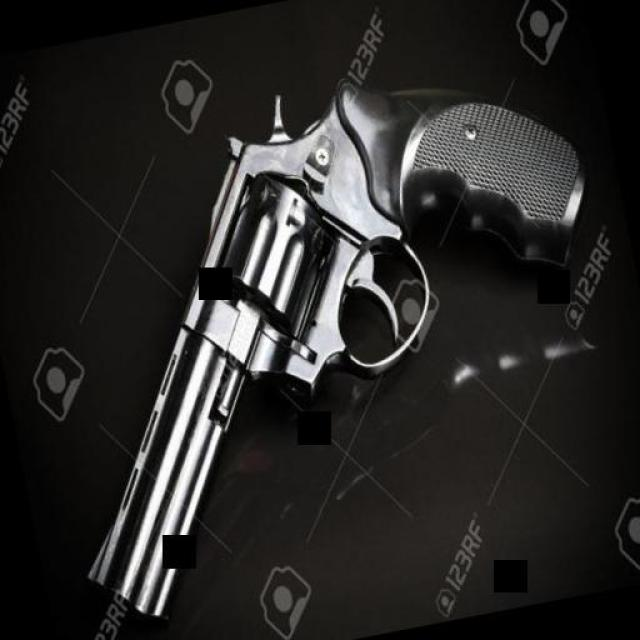gun: (0, 34, 640, 638)
